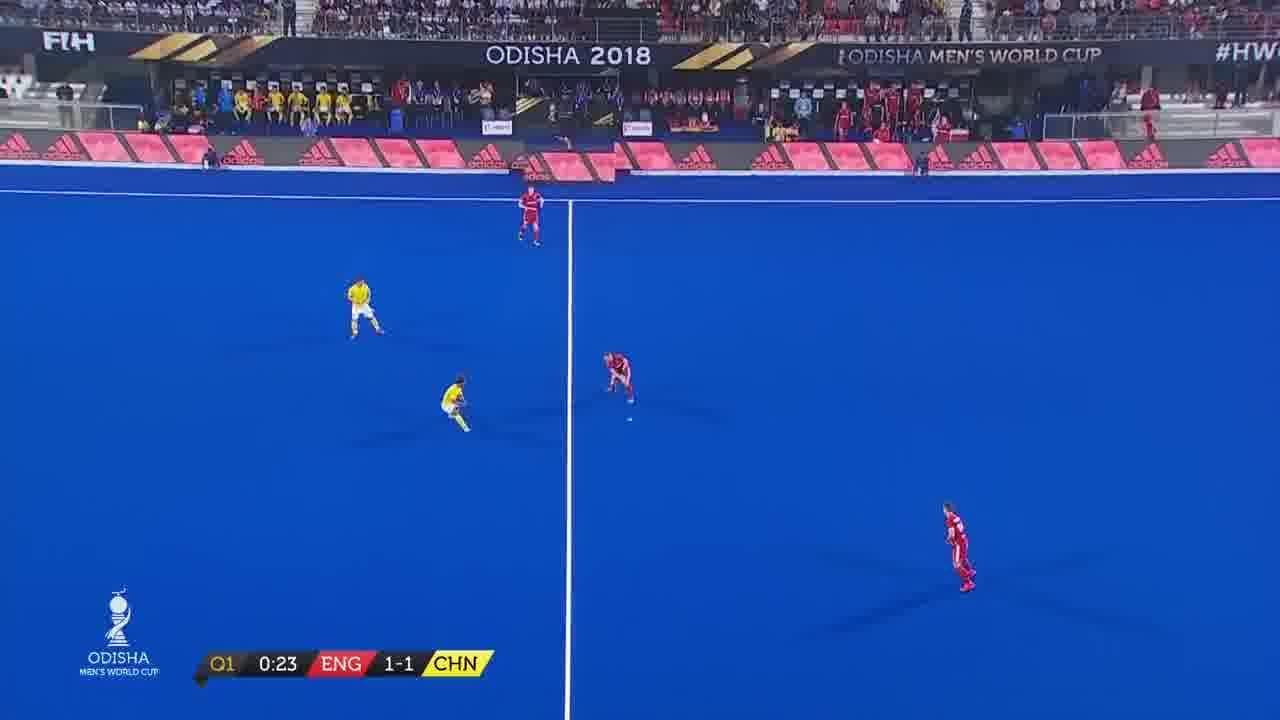ball: (624, 413, 638, 426)
